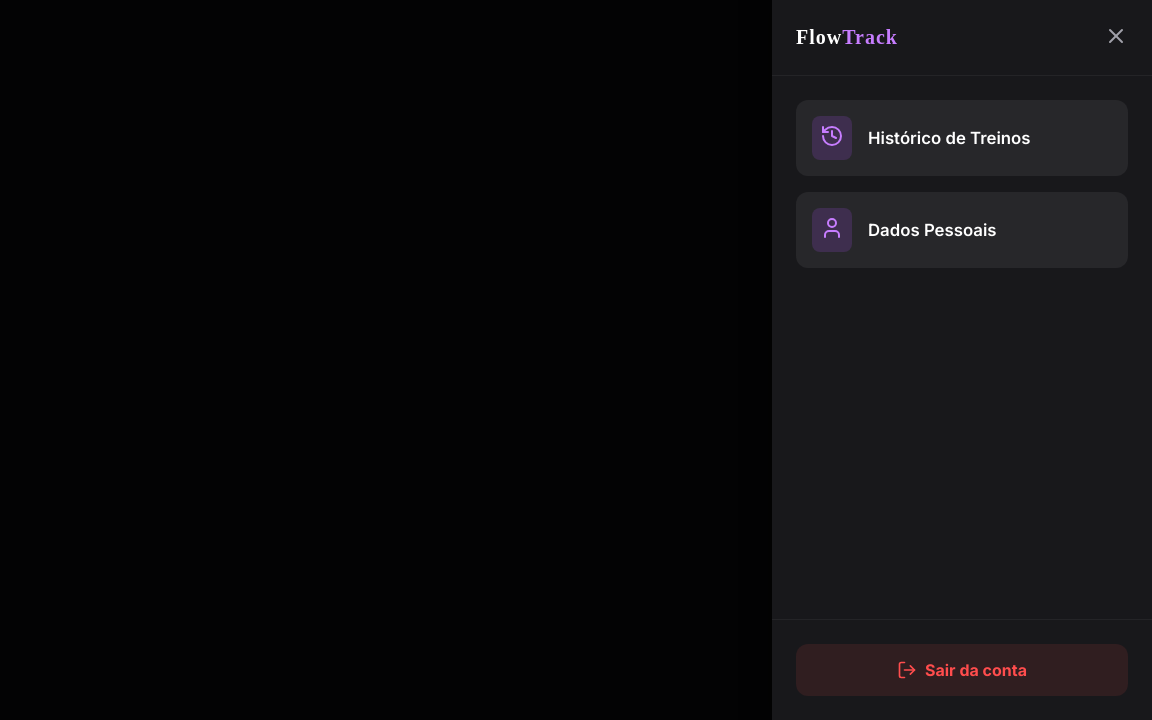
Test: SidebarMenu – navegação para perfil › deve exibir o formulário de perfil ao clicar em "Dados Pessoais"
Click the button "Dados Pessoais": (962, 230) [796,192,1128,268]
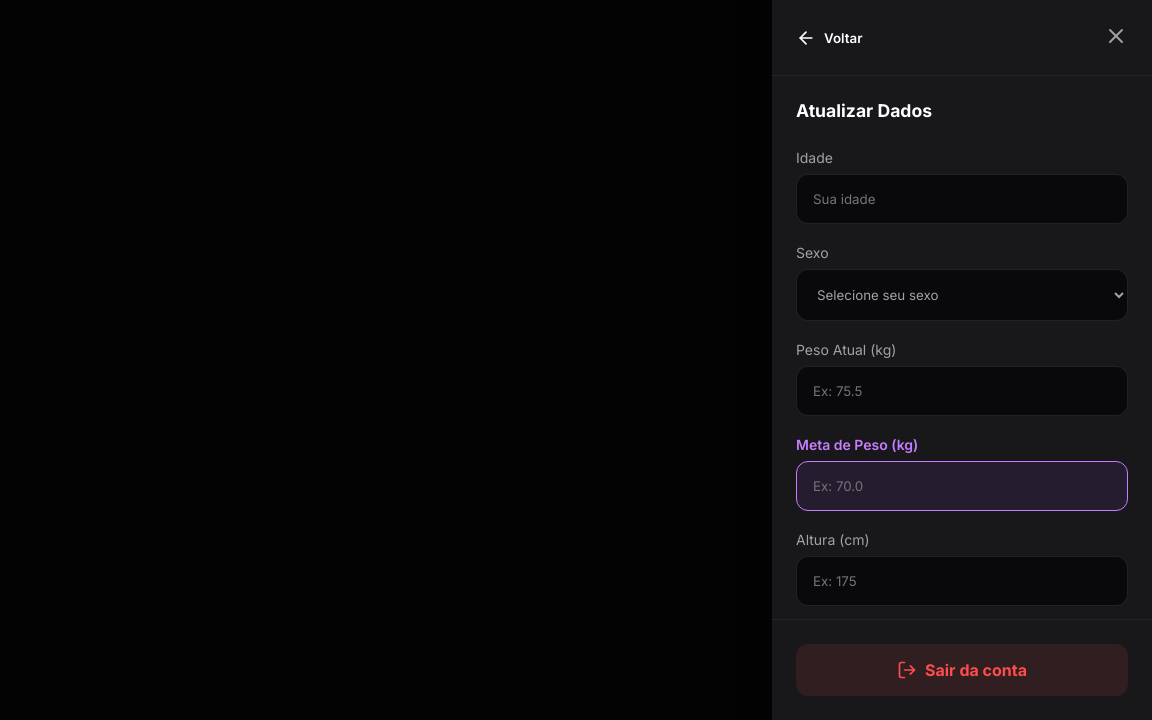
expect the heading "Atualizar Dados" is shown: met, box [796,100,932,121]
expect the text "Idade" is shown: met, box [796,149,833,166]
expect the text "Sexo" is shown: met, box [796,244,829,261]
